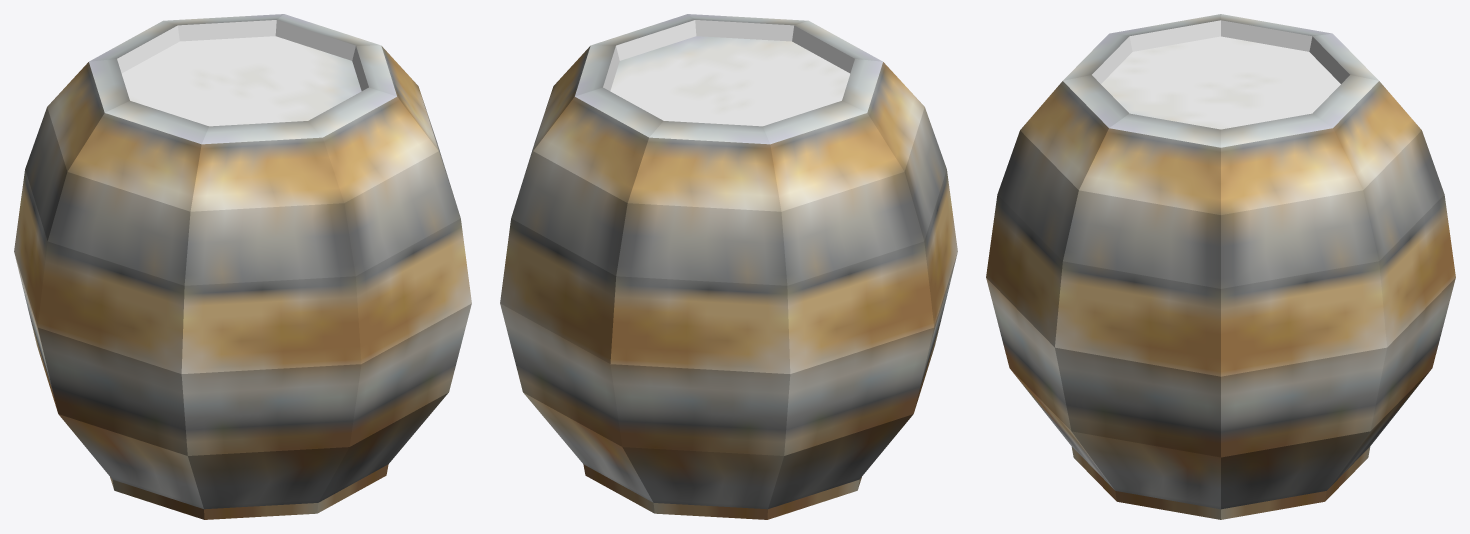
Rendered from Poly_Barrel_02_Snow.obj.
3 renders of one model, left to right at view 1: azimuth 30°, elevation 25°; view 2: azimuth 150°, elevation 25°; view 3: azimuth 270°, elevation 25°, orthographic.
Visible parts, largest first — view 1: Torus; view 2: Torus; view 3: Torus.
Part boxes in pixels (left/top/right/bottom): Torus: left=14, top=14, right=471, bottom=519; Torus: left=500, top=14, right=957, bottom=519; Torus: left=986, top=14, right=1455, bottom=519.
Size of the model in its own units: 0.7089 by 0.6372 by 0.7089.
Materials: 1 (1 with a texture image).
